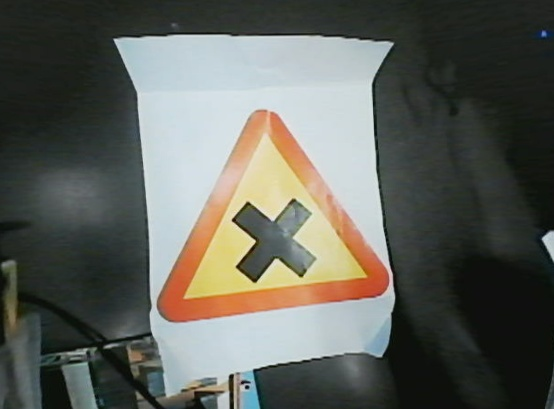junction: (145, 107, 405, 316)
